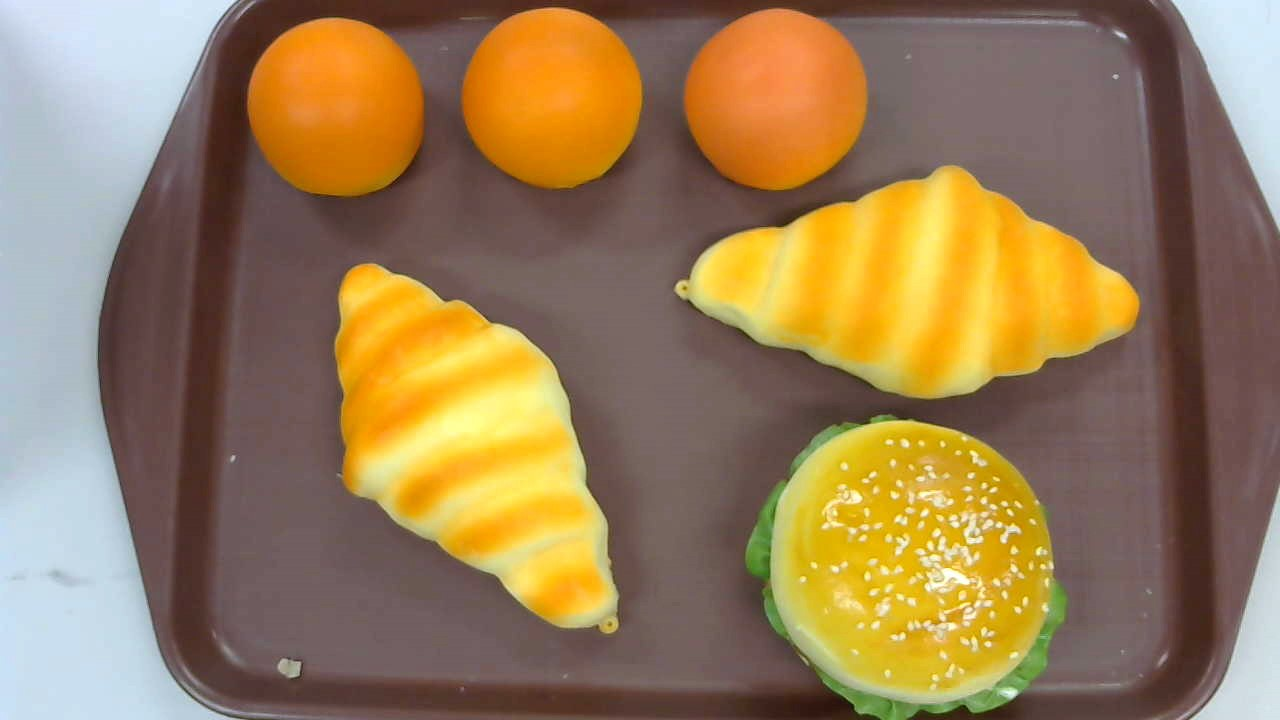bun: (683, 6, 868, 191), (461, 7, 644, 190), (247, 16, 424, 198)
croissant: (674, 162, 1140, 400), (334, 263, 621, 635)
hamburger: (744, 412, 1066, 720)
